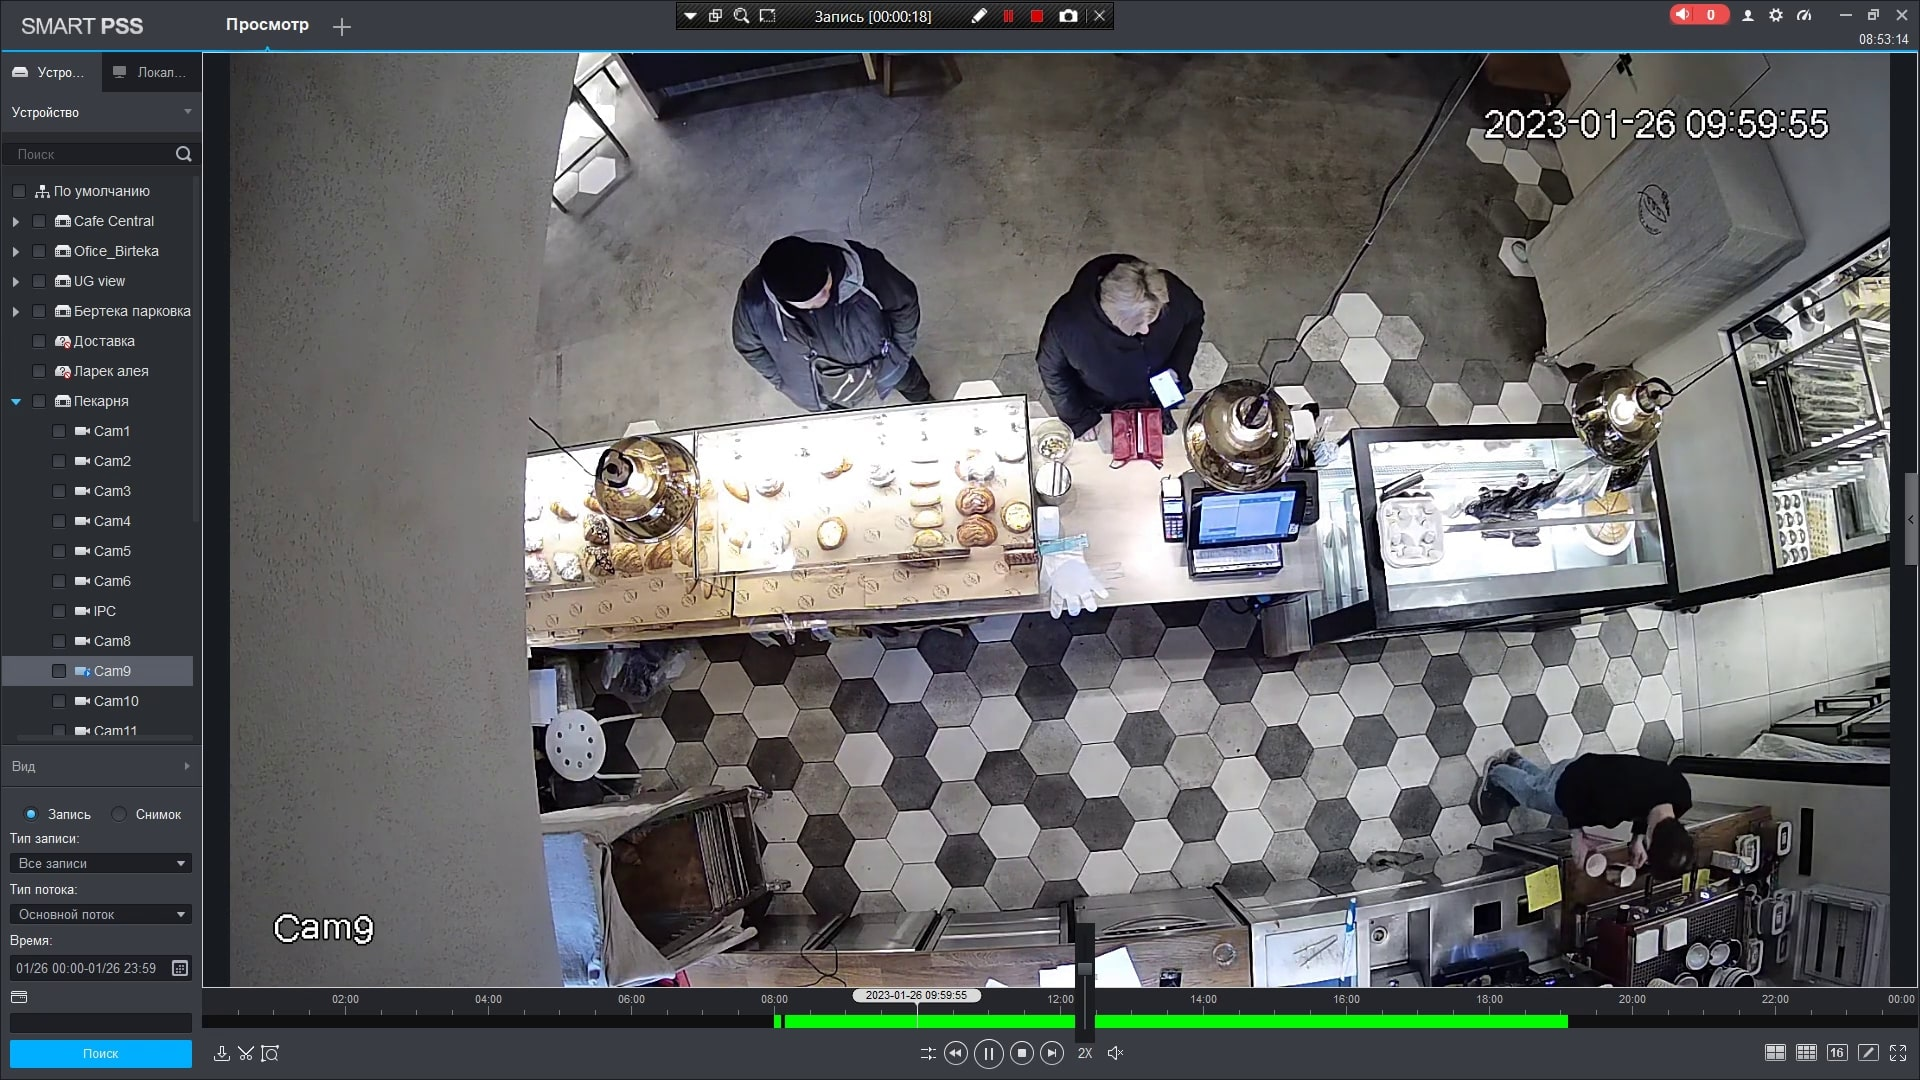barcounter: (537, 407, 1678, 628)
person: (717, 221, 920, 407), (1022, 241, 1198, 448), (1479, 752, 1696, 885)
